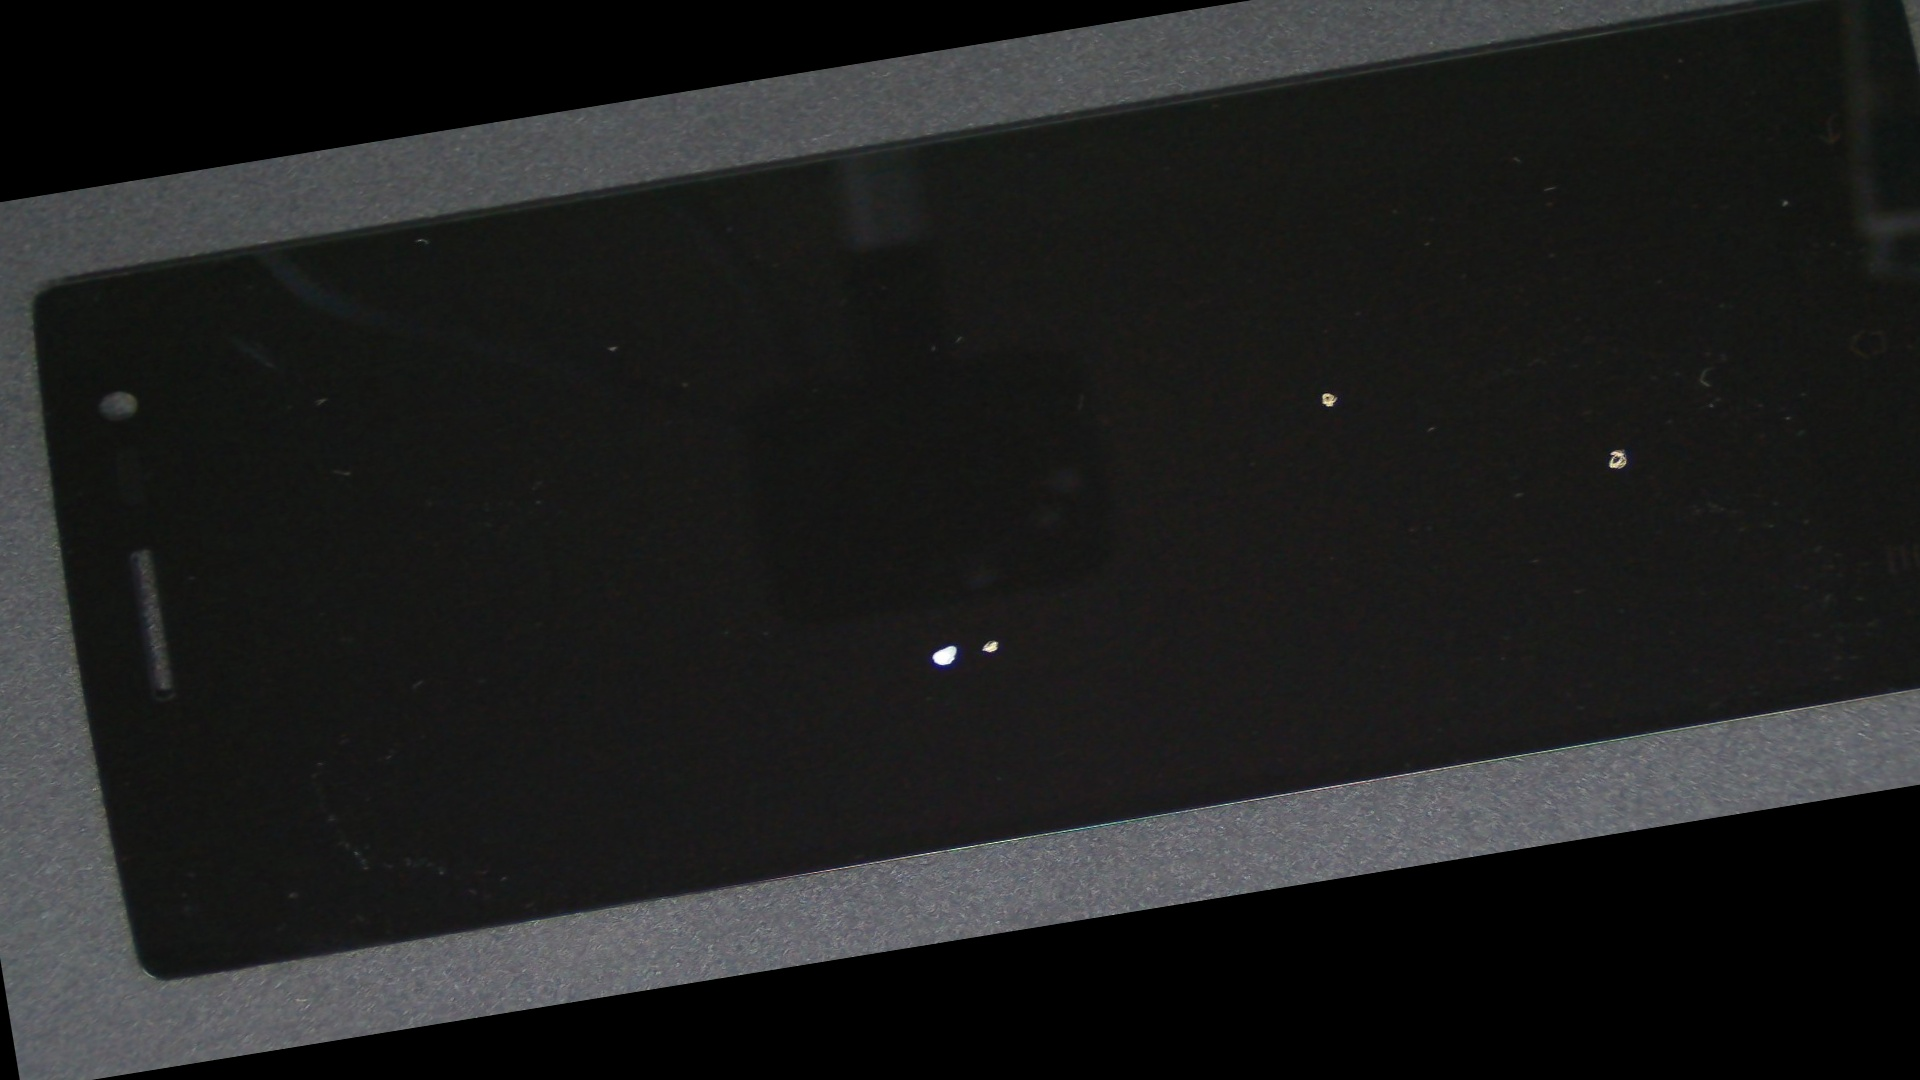oil: (436, 266, 1545, 1009), (748, 129, 1920, 831), (604, 83, 1920, 700), (414, 276, 1480, 1013)
